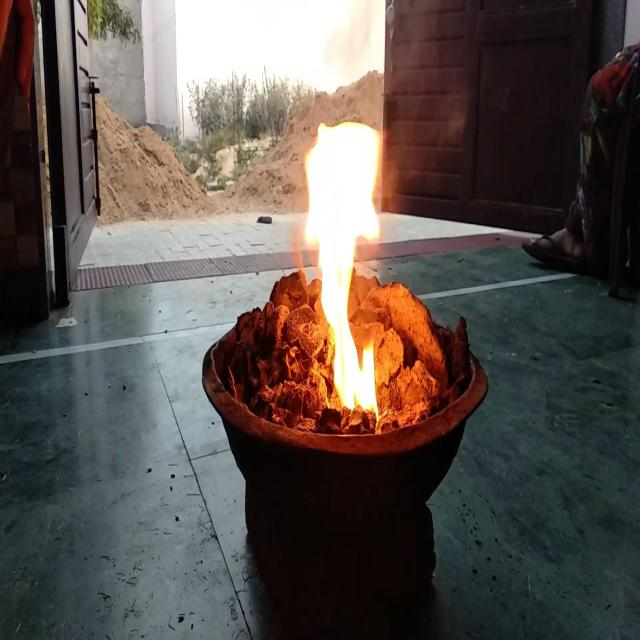fire: (291, 88, 397, 428)
